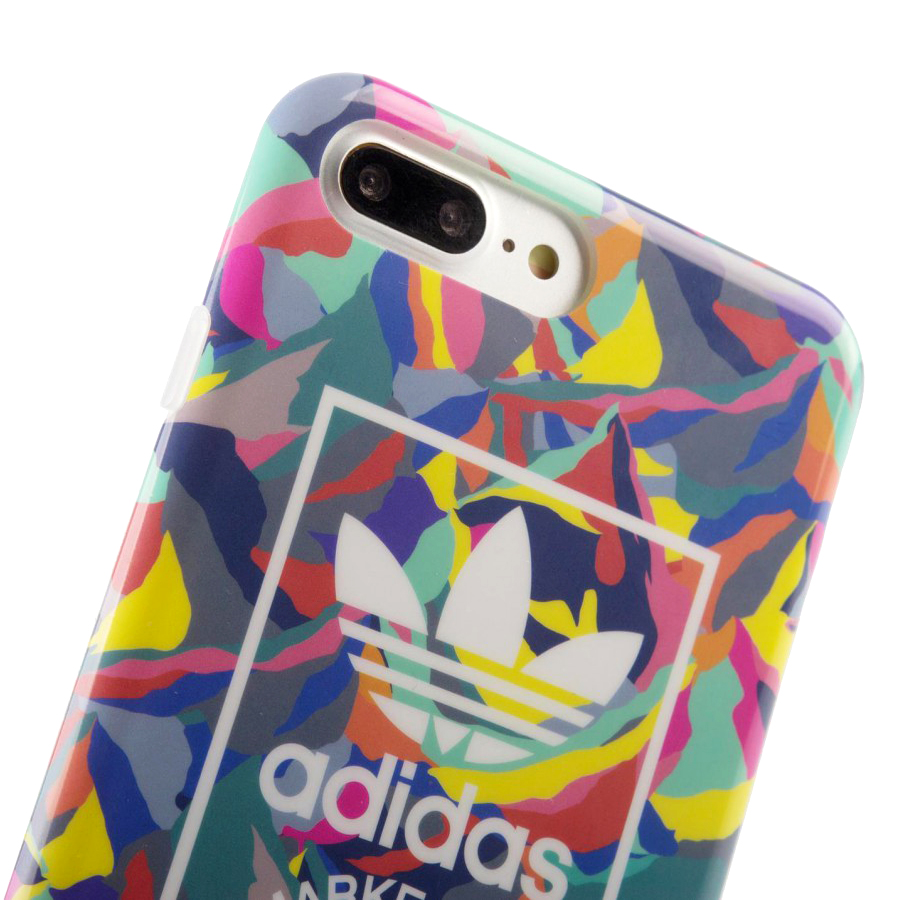Adidas: (255, 501, 649, 900)
